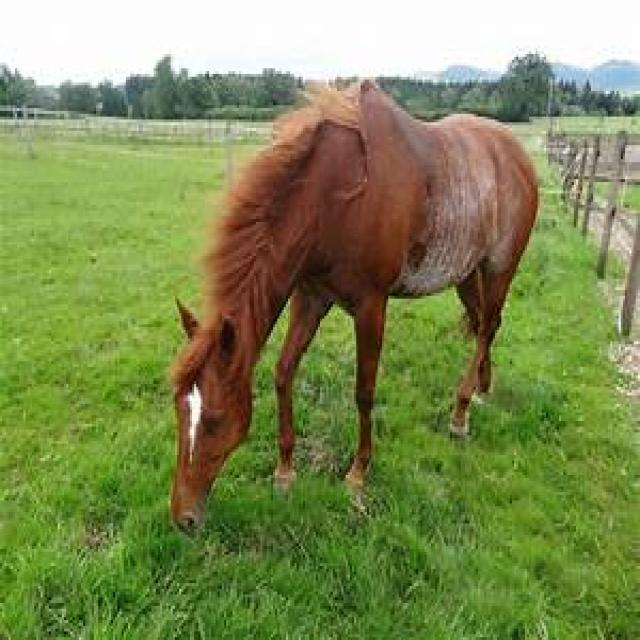horse: (169, 80, 542, 535)
